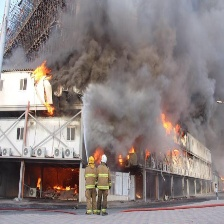fire: (29, 62, 56, 117), (92, 145, 137, 169), (144, 145, 187, 166), (36, 174, 80, 194), (161, 116, 187, 141)
smoke: (53, 2, 220, 147)
